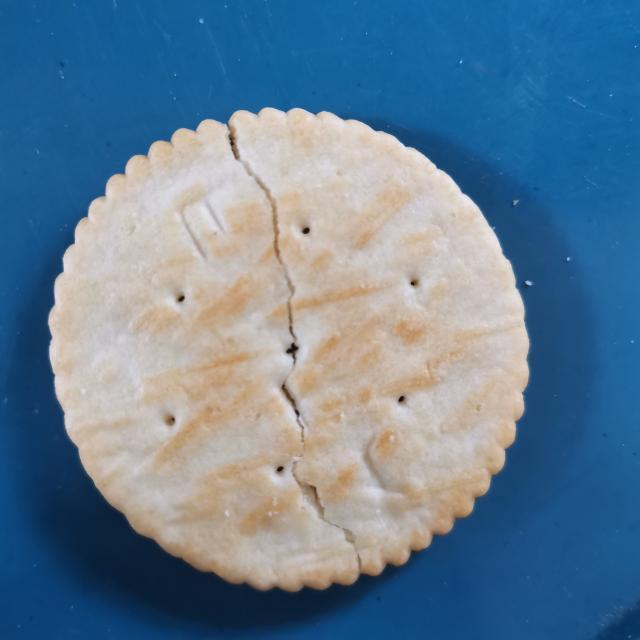Fracture: (196, 105, 383, 588)
